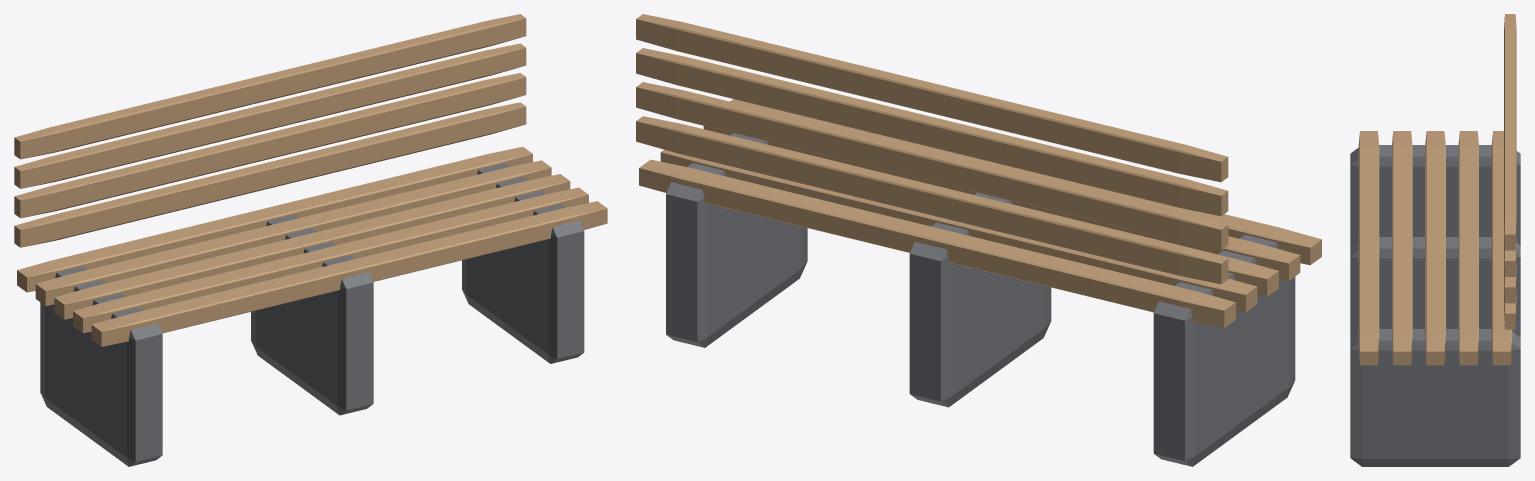
File: b01_perforated_steel_bench.glb
The picture shows the model from 3 angles, left to right: view 1: azimuth 30°, elevation 25°; view 2: azimuth 150°, elevation 25°; view 3: azimuth 270°, elevation 25°; orthographic projection. The views are drawn at different scales.
Parts seen in each view (by area): view 1: b01_perforated_steel_bench; view 2: b01_perforated_steel_bench; view 3: b01_perforated_steel_bench.
Part boxes in pixels (left/top/right/bottom): b01_perforated_steel_bench: left=14, top=14, right=607, bottom=466; b01_perforated_steel_bench: left=636, top=14, right=1321, bottom=466; b01_perforated_steel_bench: left=1350, top=14, right=1520, bottom=466.
Bounding box in the file's own units: 1.9 × 0.987 × 0.62.
